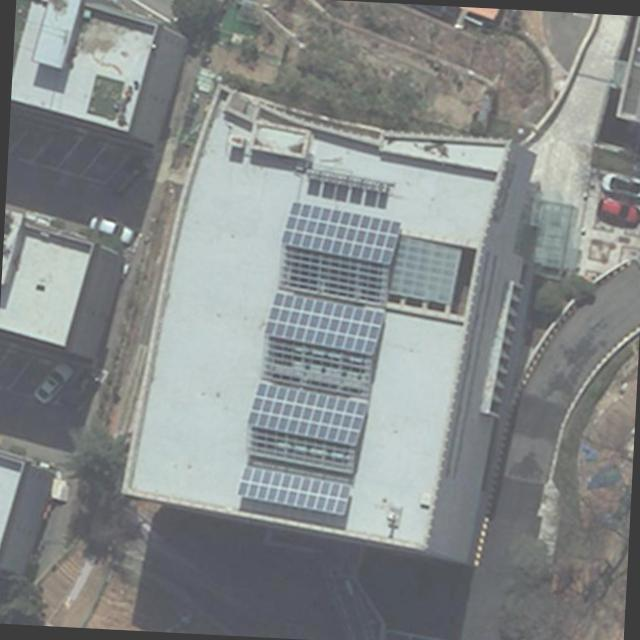solar: (245, 378, 372, 454), (262, 288, 389, 360), (277, 198, 405, 269), (233, 458, 354, 524)
